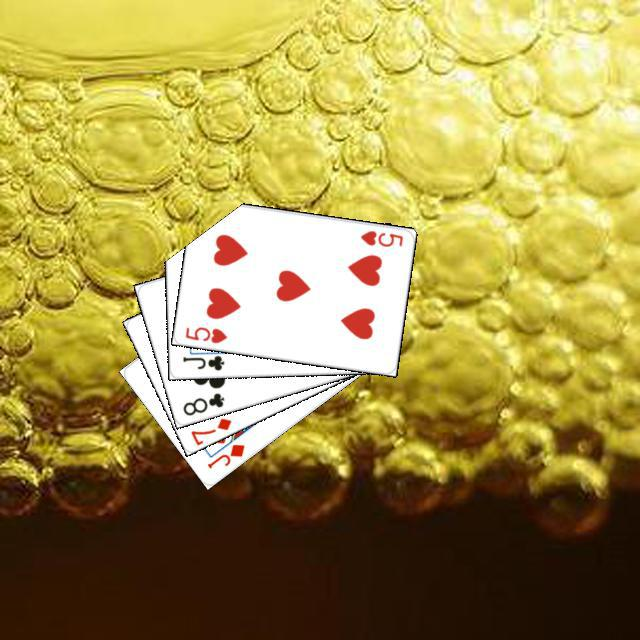5h: (180, 322, 229, 345), (356, 226, 405, 249)
7d: (186, 413, 233, 446)
8c: (178, 388, 226, 417)
Jc: (178, 351, 226, 372)
Jd: (202, 439, 247, 470)
